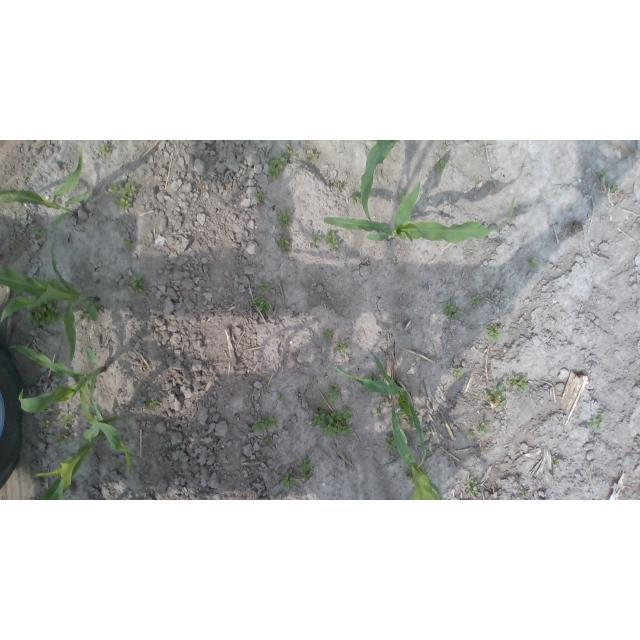Maize: (3, 232, 102, 365), (322, 180, 517, 244), (332, 349, 428, 469), (9, 341, 110, 428), (32, 422, 133, 499), (1, 147, 92, 227), (390, 405, 450, 499), (359, 140, 400, 224)
Weeds: (311, 409, 357, 435), (24, 301, 60, 329), (268, 146, 294, 182), (107, 183, 138, 209), (54, 414, 75, 443), (599, 168, 622, 194), (253, 284, 271, 313), (252, 416, 277, 435), (583, 412, 608, 429), (487, 387, 506, 409), (509, 373, 530, 391), (321, 229, 340, 247), (444, 302, 461, 322), (467, 422, 488, 438), (328, 383, 341, 406), (299, 460, 313, 481), (96, 142, 113, 158), (363, 372, 376, 392), (486, 324, 502, 340), (131, 276, 145, 293), (278, 237, 292, 252), (276, 211, 290, 225), (329, 176, 345, 188), (305, 149, 319, 162), (282, 476, 295, 490), (385, 433, 395, 451), (466, 481, 477, 494), (336, 345, 349, 355), (322, 330, 335, 339), (449, 369, 463, 377), (148, 398, 158, 409), (471, 295, 480, 306), (520, 491, 533, 498), (256, 191, 265, 201), (530, 257, 538, 266), (553, 459, 559, 469)
